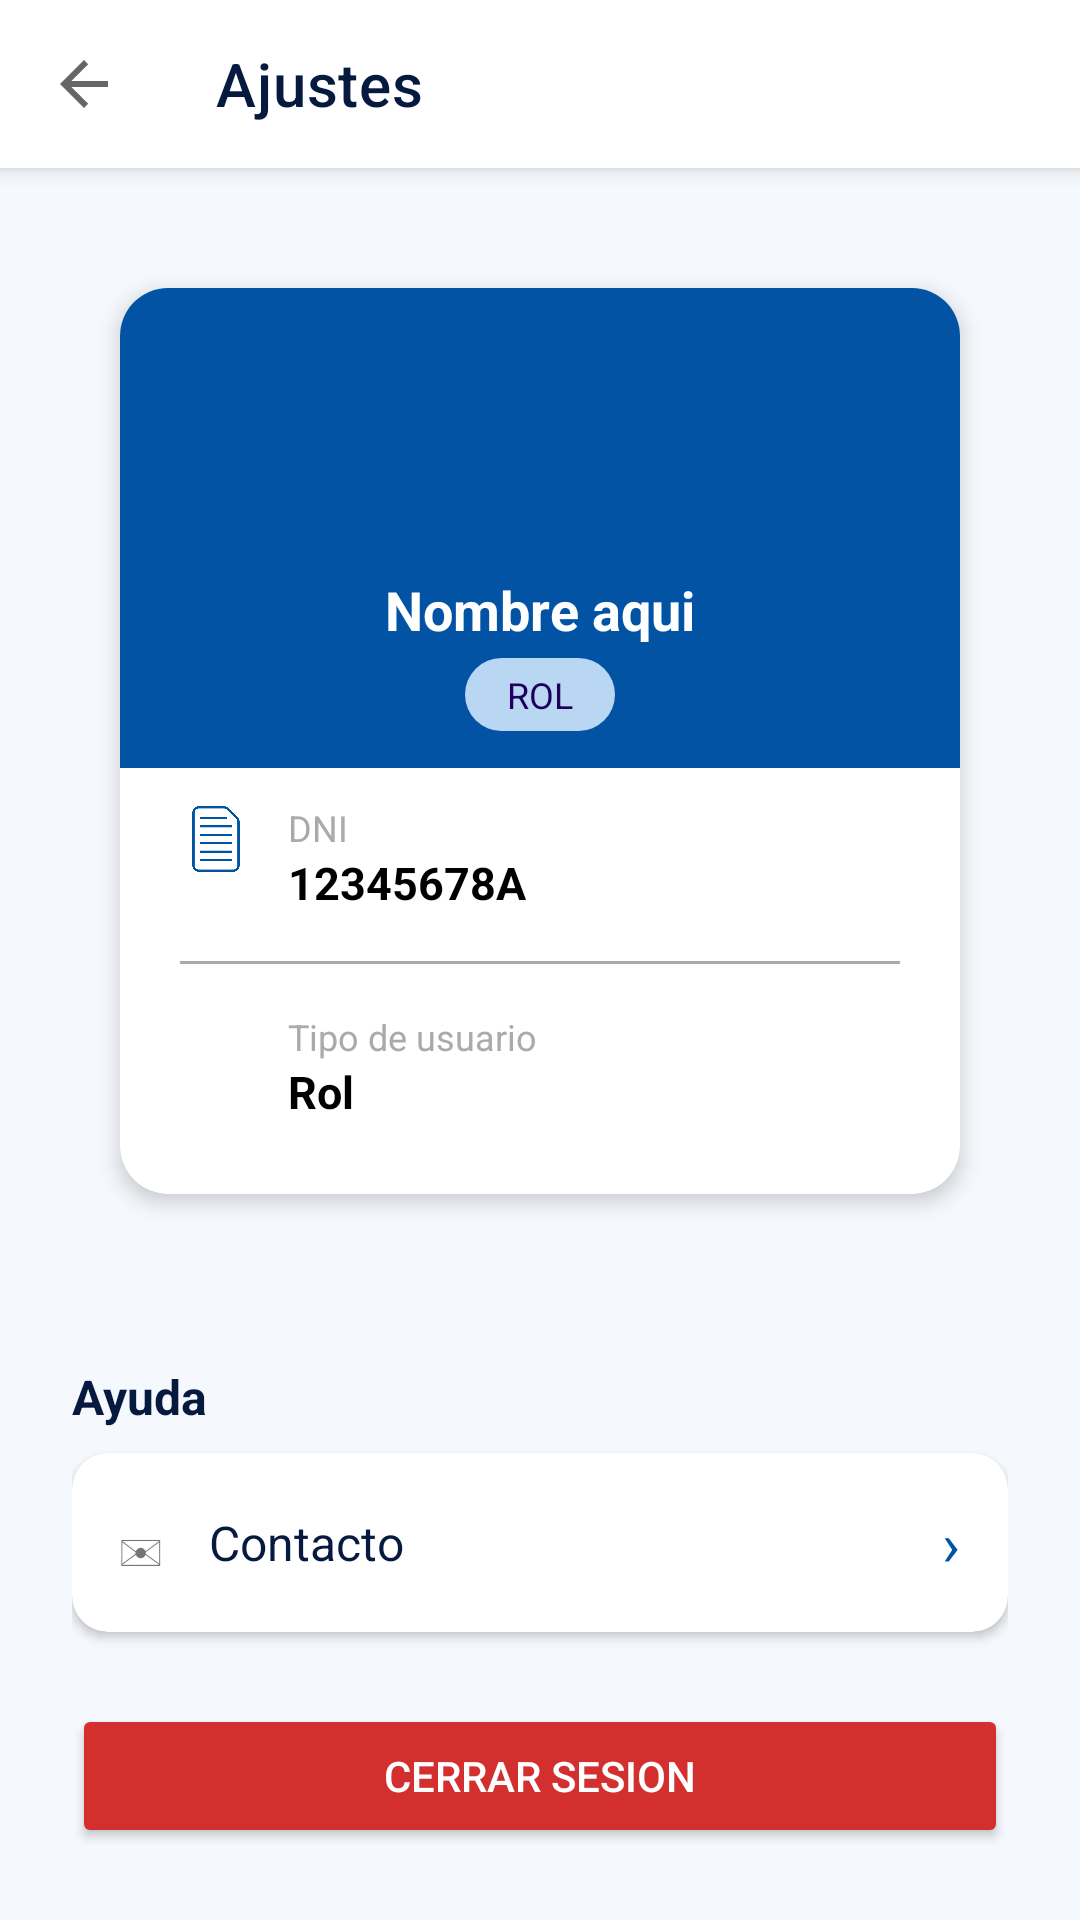

Named icons in this screenshot (1080w x 1920h) and their bounding boxes, (left=x1, top=y1, right=x2, bottom=y2):
documento: (left=192, top=806, right=240, bottom=872)
